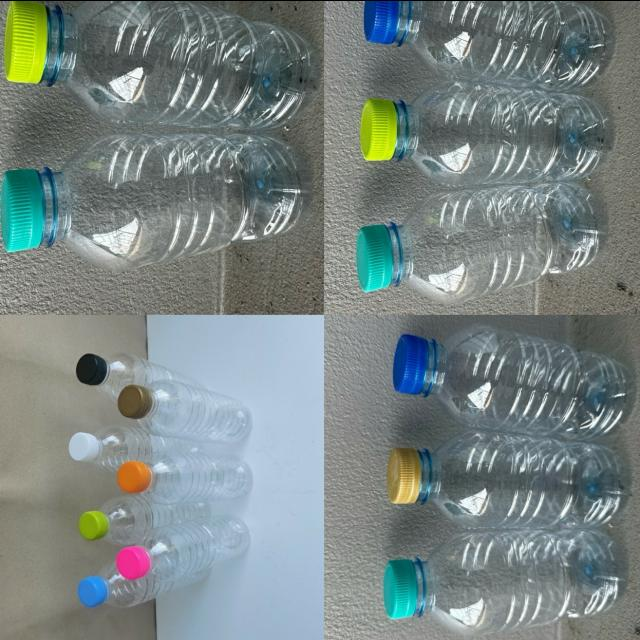plastik: (1, 133, 310, 270), (4, 0, 319, 129), (356, 182, 605, 302), (393, 324, 634, 440), (360, 80, 613, 184), (383, 528, 626, 635), (387, 431, 628, 528), (364, 0, 614, 90), (116, 515, 250, 580), (117, 379, 250, 442), (117, 450, 252, 504), (79, 494, 210, 544), (69, 424, 201, 472), (78, 560, 209, 607), (76, 352, 200, 401)
